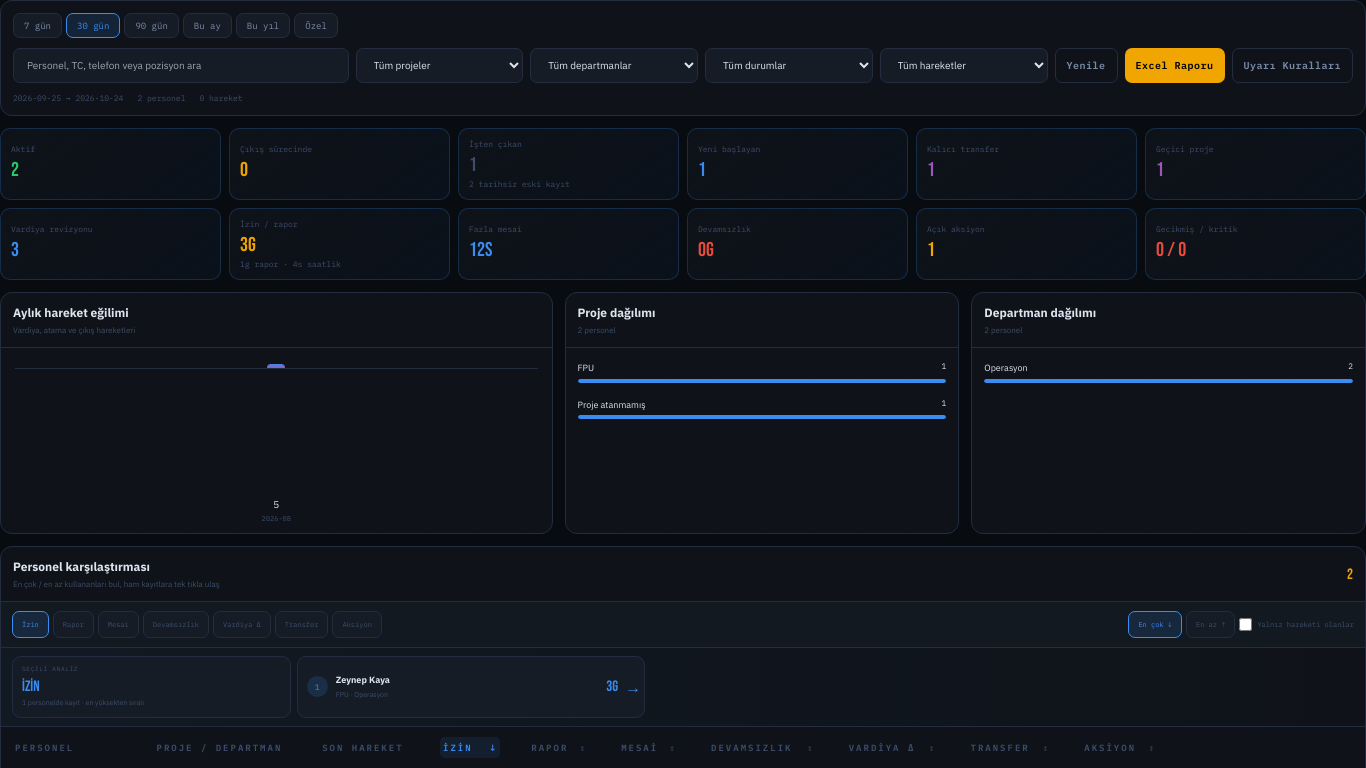
Personel Takip Merkezi ayrıntı paneli › KPI kartlarını gerçek buton yapar ve izin detayını onaylı kayıtlarla açar
Click the button with aria-label "İzin / rapor ayrıntısını aç": [340, 244] box left=229, top=208, right=450, bottom=280
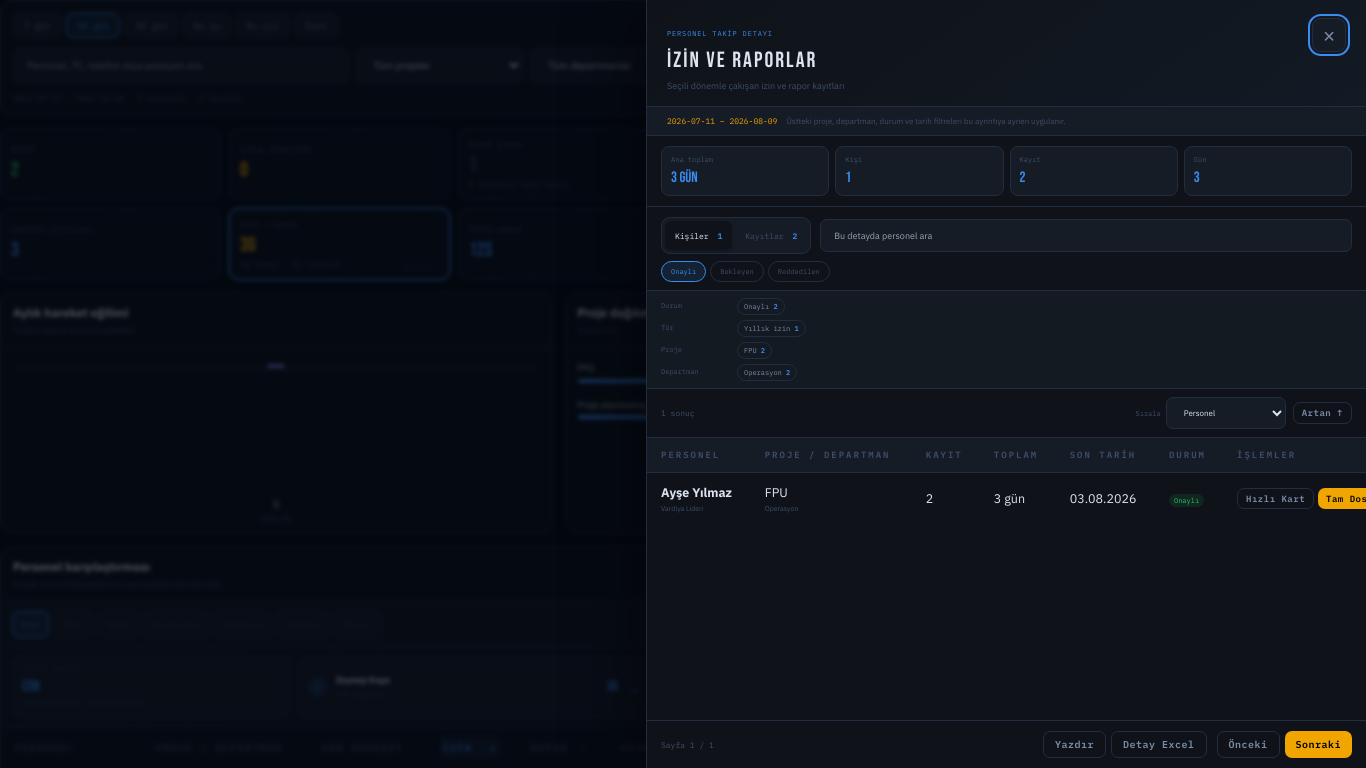
Check: the dialog "İzin ve raporlar" is shown, box left=646, top=0, right=1365, bottom=767
Check: the button with aria-label "İzin / rapor ayrıntısını aç" is expanded, box left=229, top=208, right=450, bottom=280
Check: the text "Ayşe Yılmaz" is shown, box left=661, top=482, right=737, bottom=501
